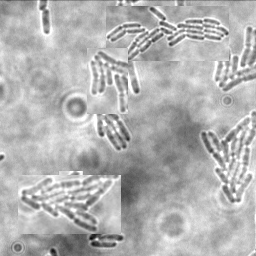Dividing: (41, 8, 52, 35)
Microcolony: (106, 6, 229, 61), (18, 175, 121, 234), (200, 109, 255, 205), (212, 25, 255, 94), (87, 48, 128, 114), (96, 103, 132, 150)
Rod: (59, 171, 83, 191)
